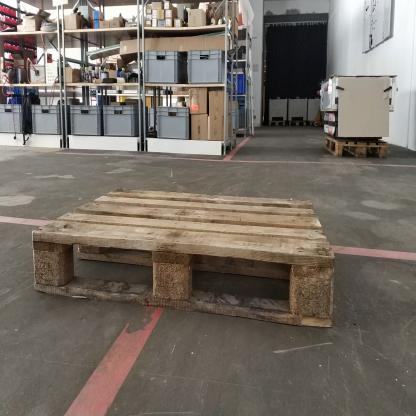BoxFace: (31, 182, 338, 330), (323, 134, 390, 163)
